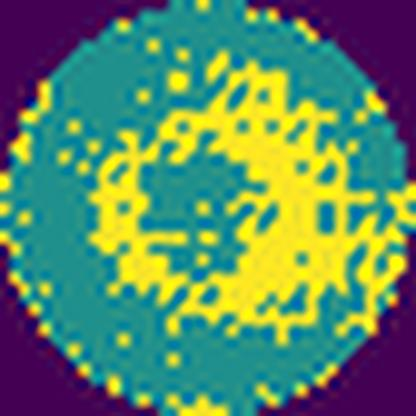Donut: (84, 52, 401, 339)
